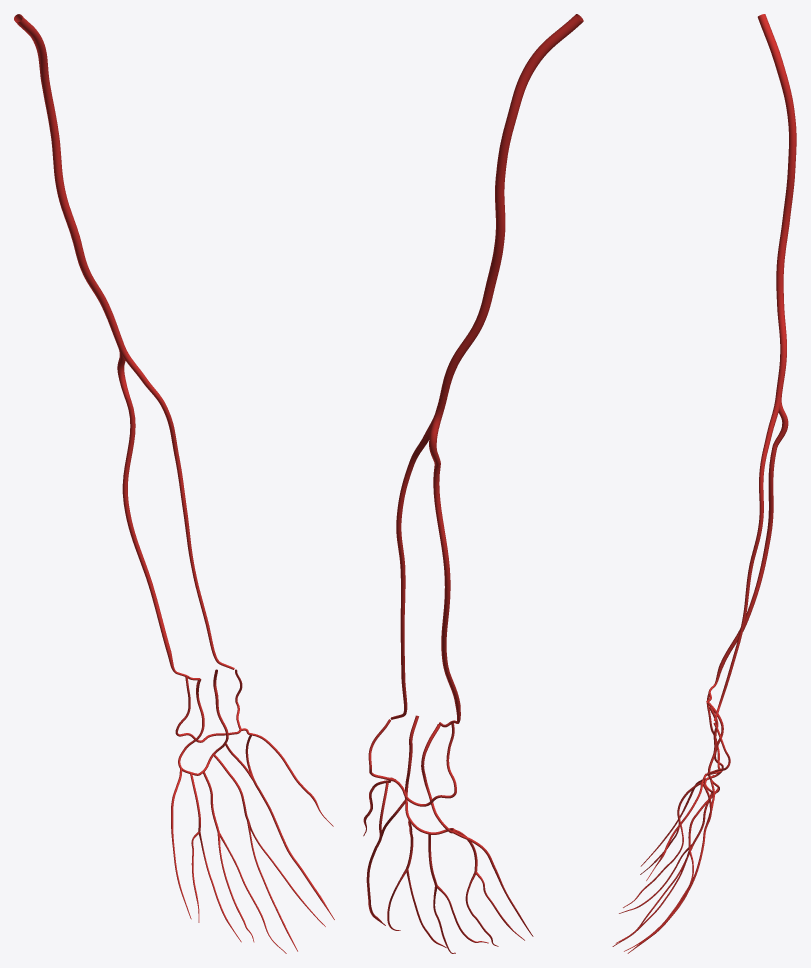
File: circulatorio-brachial-veins-l.glb
3 renders of one model, left to right at view 1: azimuth 30°, elevation 25°; view 2: azimuth 150°, elevation 25°; view 3: azimuth 270°, elevation 25°, orthographic. The views are drawn at different scales.
Parts seen in each view (by area): view 1: Palmar digital veins.l, Brachial veins.l, Ulnar veins.l, Radial veins.l, Superficial venous palmar arch.l; view 2: Brachial veins.l, Palmar digital veins.l, Ulnar veins.l, Radial veins.l, Superficial venous palmar arch.l, Deep venous palmar arch.l; view 3: Brachial veins.l, Palmar digital veins.l, Ulnar veins.l, Radial veins.l, Superficial venous palmar arch.l.
Part boxes in pixels (x1,y1,x2,y2): Palmar digital veins.l: (171,728,334,953); Brachial veins.l: (14,14,123,346); Ulnar veins.l: (117,345,200,680); Radial veins.l: (118,345,234,669); Superficial venous palmar arch.l: (178,669,228,775); Brachial veins.l: (437,14,583,409); Palmar digital veins.l: (363,777,533,953); Ulnar veins.l: (429,407,460,727); Radial veins.l: (390,407,443,719); Superficial venous palmar arch.l: (404,715,454,834); Deep venous palmar arch.l: (368,719,456,806); Brachial veins.l: (757,14,796,395); Palmar digital veins.l: (612,773,719,953); Ulnar veins.l: (706,395,788,702); Radial veins.l: (714,395,781,721); Superficial venous palmar arch.l: (704,702,723,792).
Size of the model in its own units: 0.1744 by 0.6036 by 0.119.
